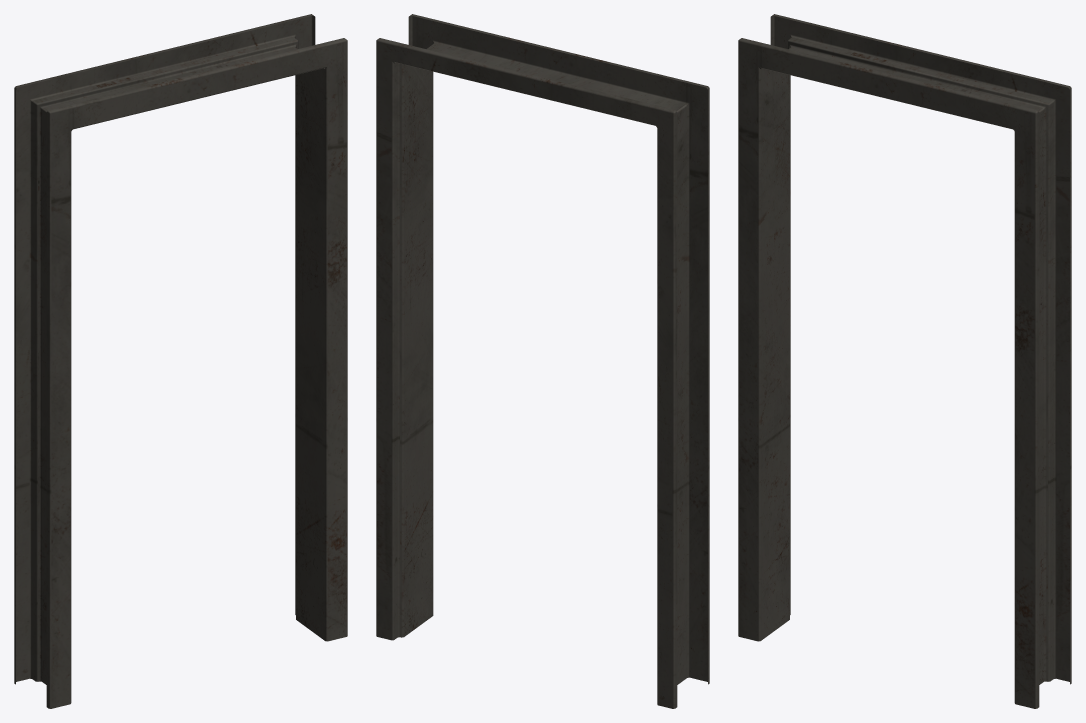
The model's file is Door_frame.fbx.
3 views of the same model, side by side, from view 1: azimuth 30°, elevation 25°; view 2: azimuth 150°, elevation 25°; view 3: azimuth 330°, elevation 25° (orthographic).
Parts seen in each view (by area): view 1: door_frame_01; view 2: door_frame_01; view 3: door_frame_01.
Part boxes in pixels (x1=…): door_frame_01: x1=14, y1=14, x2=347, y2=708; door_frame_01: x1=376, y1=14, x2=709, y2=708; door_frame_01: x1=738, y1=14, x2=1071, y2=708.
Bounding box in the file's own units: 113 × 216 × 23.83.
1 material, 1 textured.
